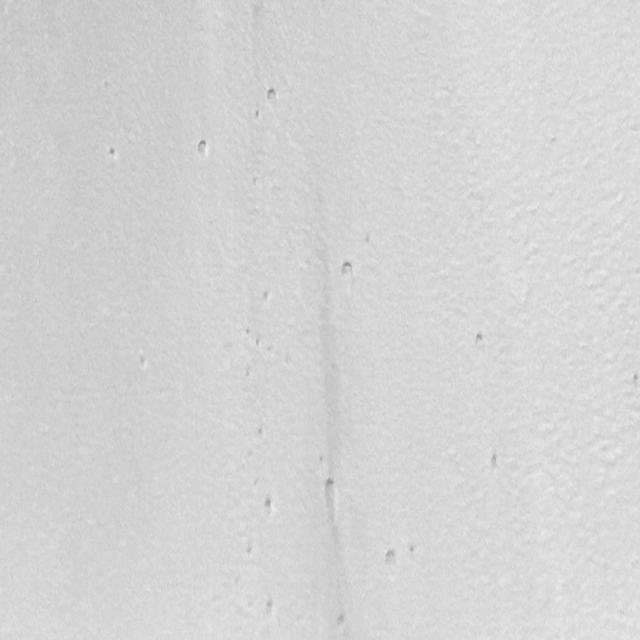pin holes: (318, 477, 342, 521), (337, 258, 359, 283), (381, 546, 402, 572), (260, 494, 279, 518), (485, 451, 504, 474), (195, 136, 212, 160), (265, 86, 282, 107), (473, 331, 490, 349), (135, 355, 151, 374), (335, 611, 350, 630), (265, 598, 278, 619), (256, 426, 269, 444), (408, 543, 422, 559), (253, 335, 267, 350), (108, 147, 121, 163), (243, 544, 256, 560), (242, 326, 256, 340), (253, 108, 265, 124), (316, 455, 328, 471), (261, 291, 273, 306), (630, 371, 638, 391), (364, 231, 371, 244)
